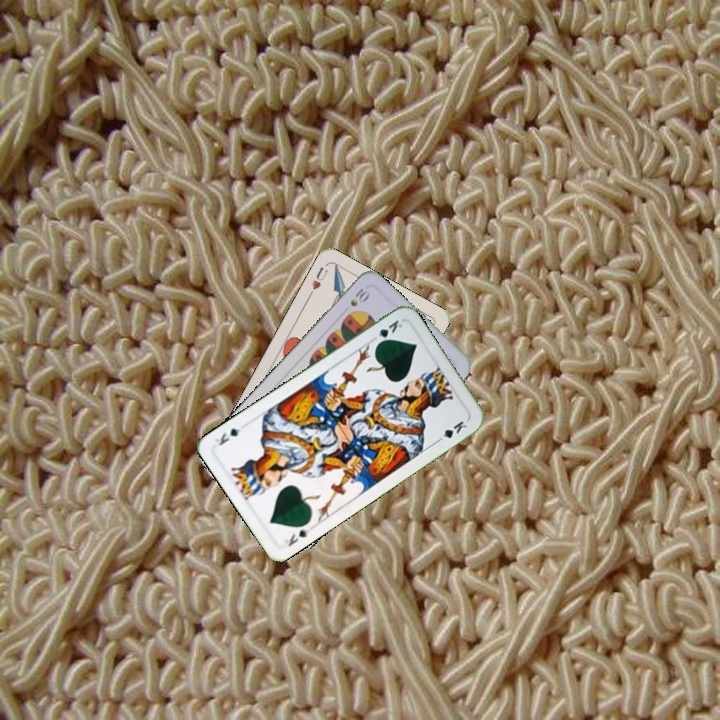GK: (368, 316, 405, 348), (281, 524, 312, 549)
HU: (305, 263, 331, 299)
S10: (346, 284, 371, 309)
